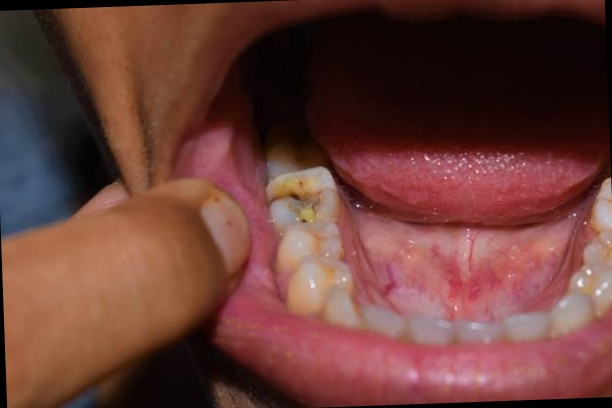Caries: (276, 174, 324, 226)
